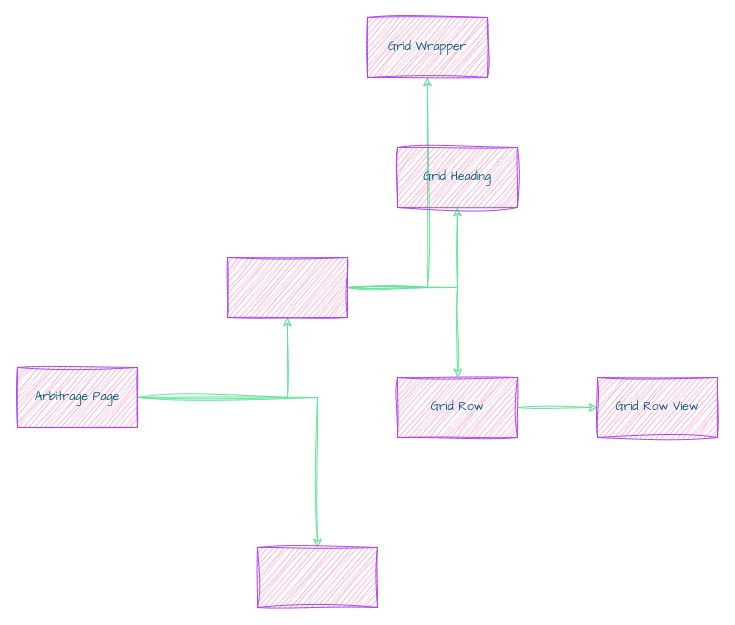
This 735x625 diagram has some shape labels left out. The shapes that lost their labels are listed below. From the top down, each one's centre as x and y in pixels, then its label:
At point 287,287: "Arbitrage Card".
At point 317,577: "Arbitrage Chart".
